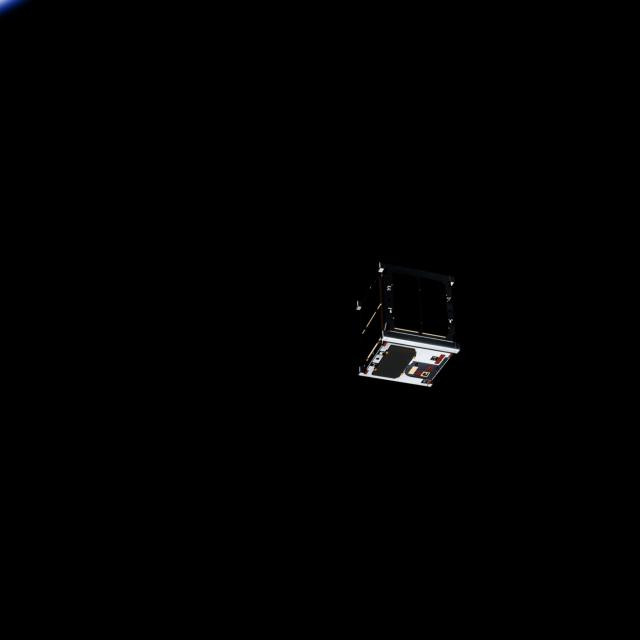satellite: (350, 255, 463, 397)
